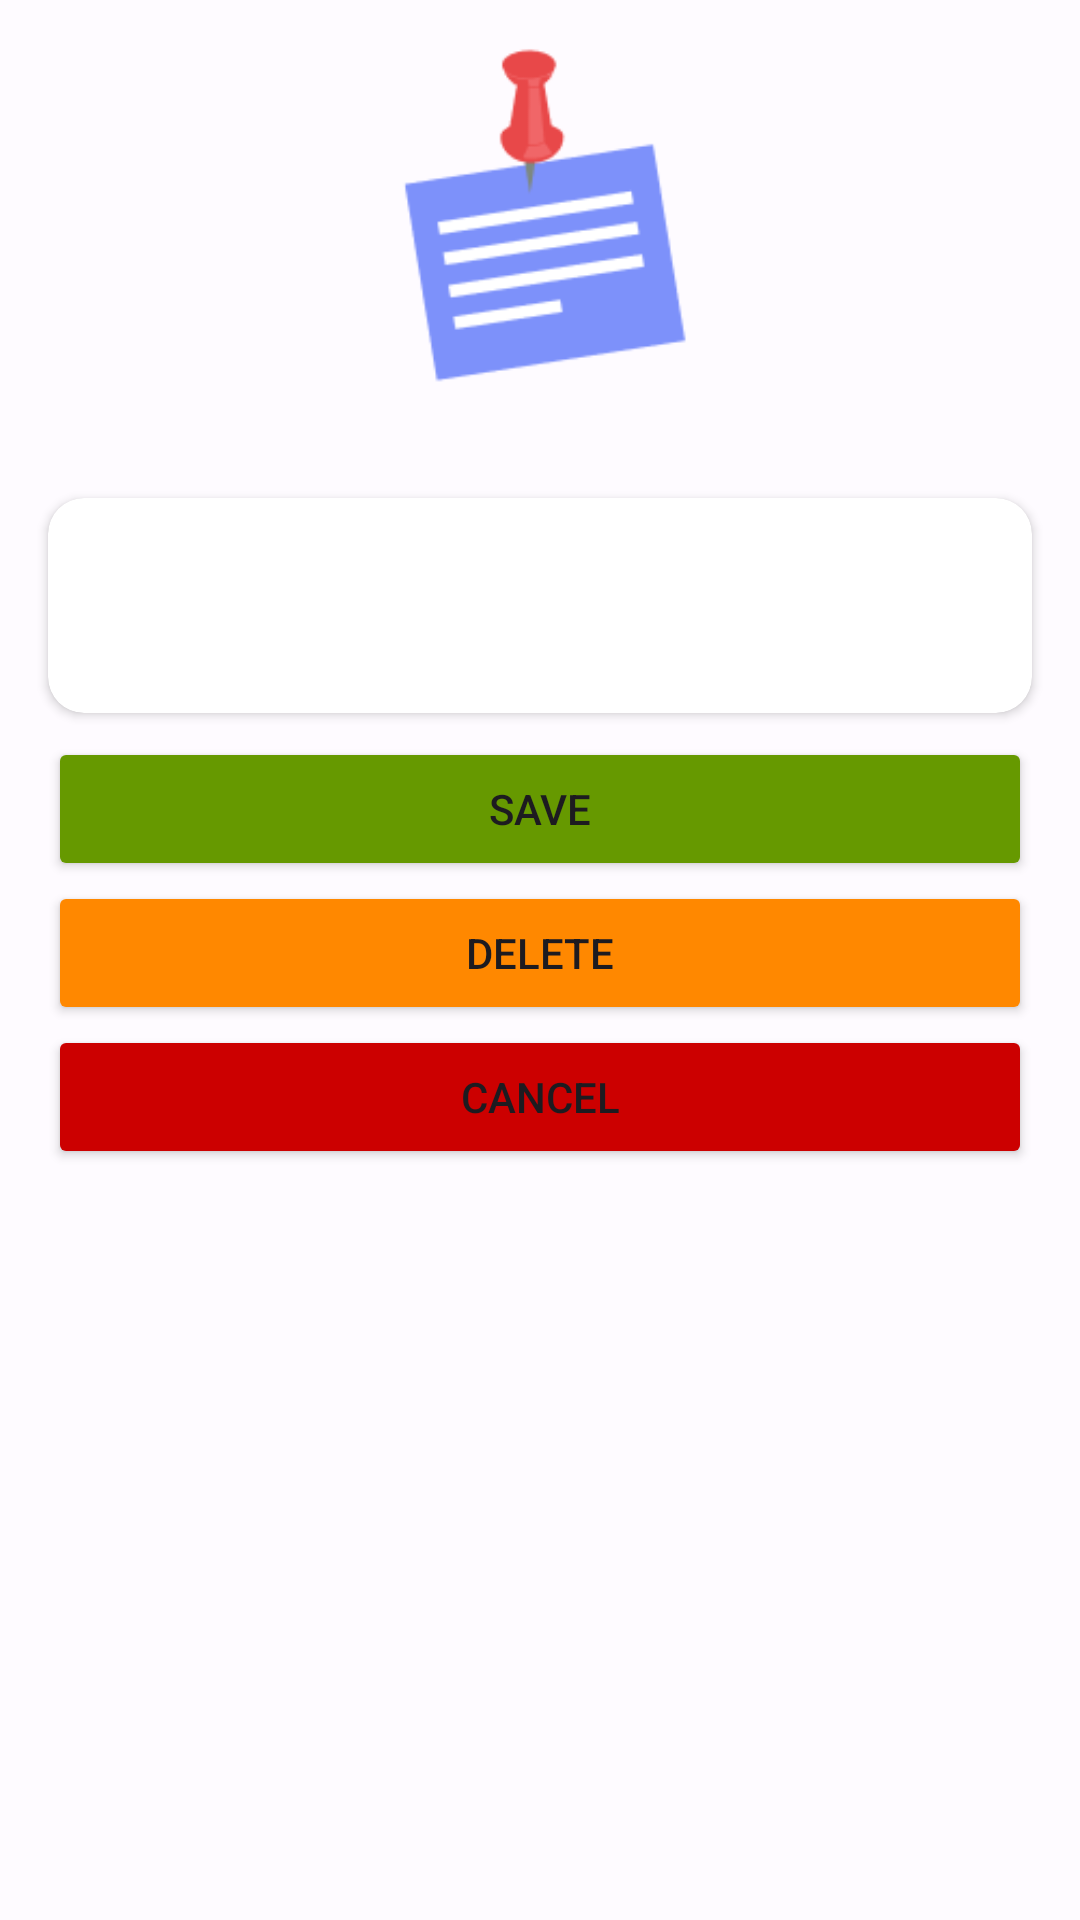

Where to tap for icons on this 1080 x 1920 app screen, as [x,y]:
note: [545,215]
